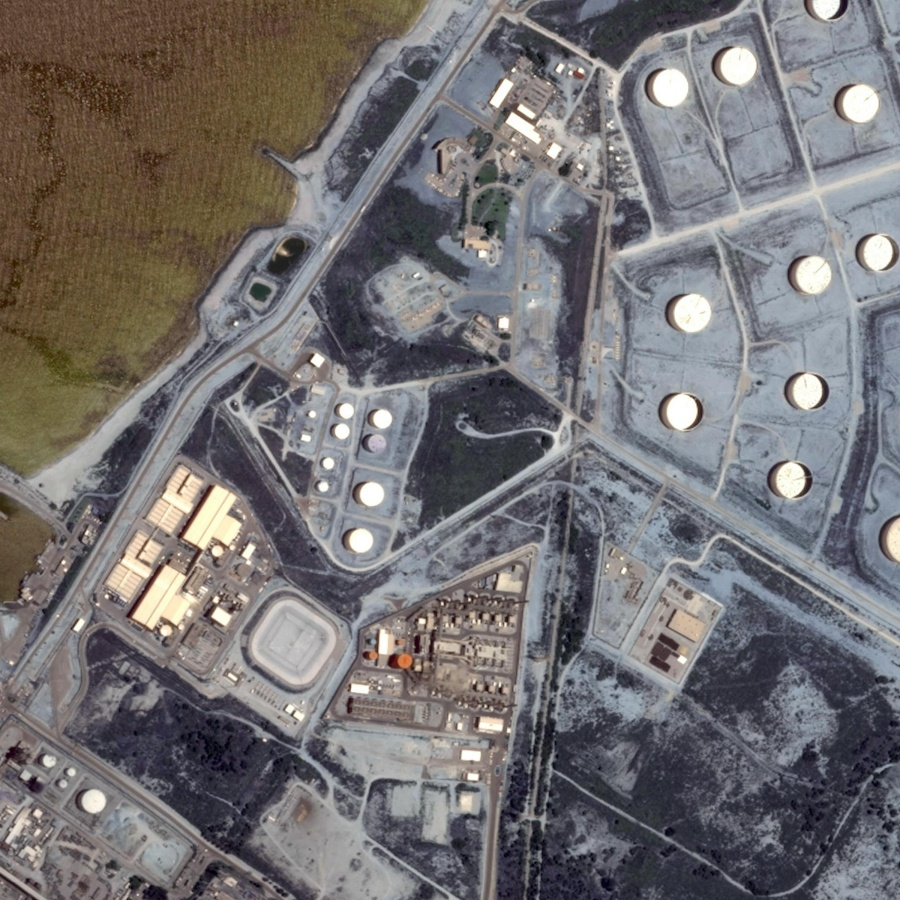PowerPlant: (232, 352, 465, 566)
